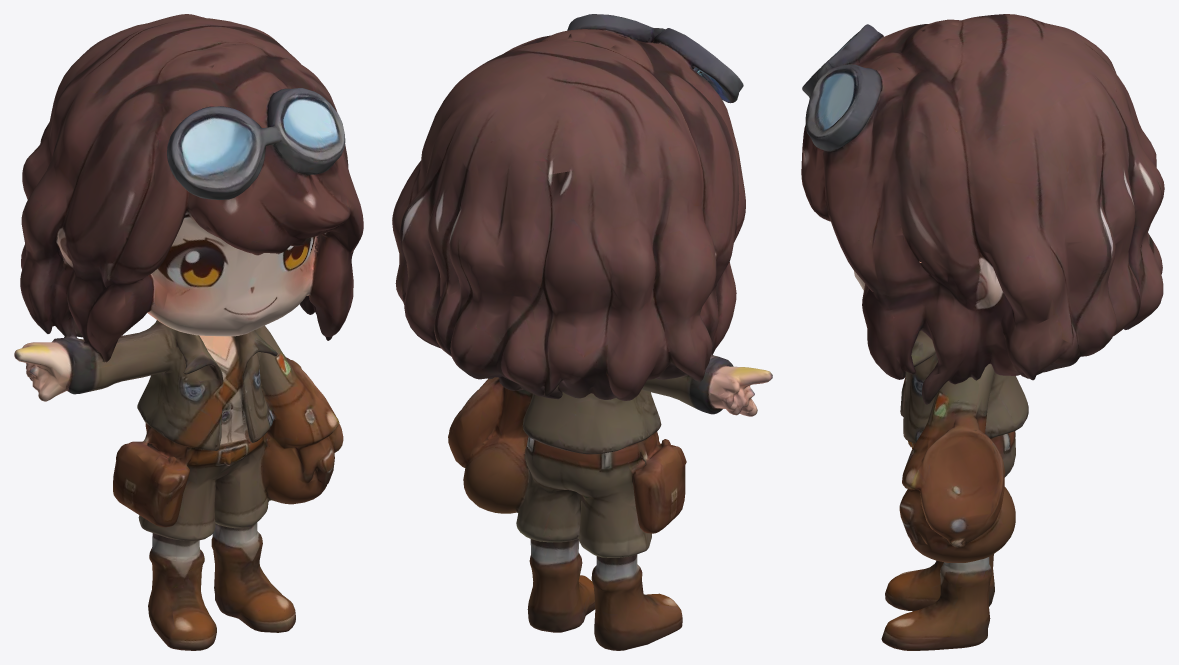
Rendered from astra.glb.
3 views of the same model, side by side, from view 1: azimuth 30°, elevation 25°; view 2: azimuth 150°, elevation 25°; view 3: azimuth 270°, elevation 25° (orthographic). The views are drawn at different scales.
Size of the model in its own units: 1.23 by 2 by 1.11.
1 material, 1 textured.
